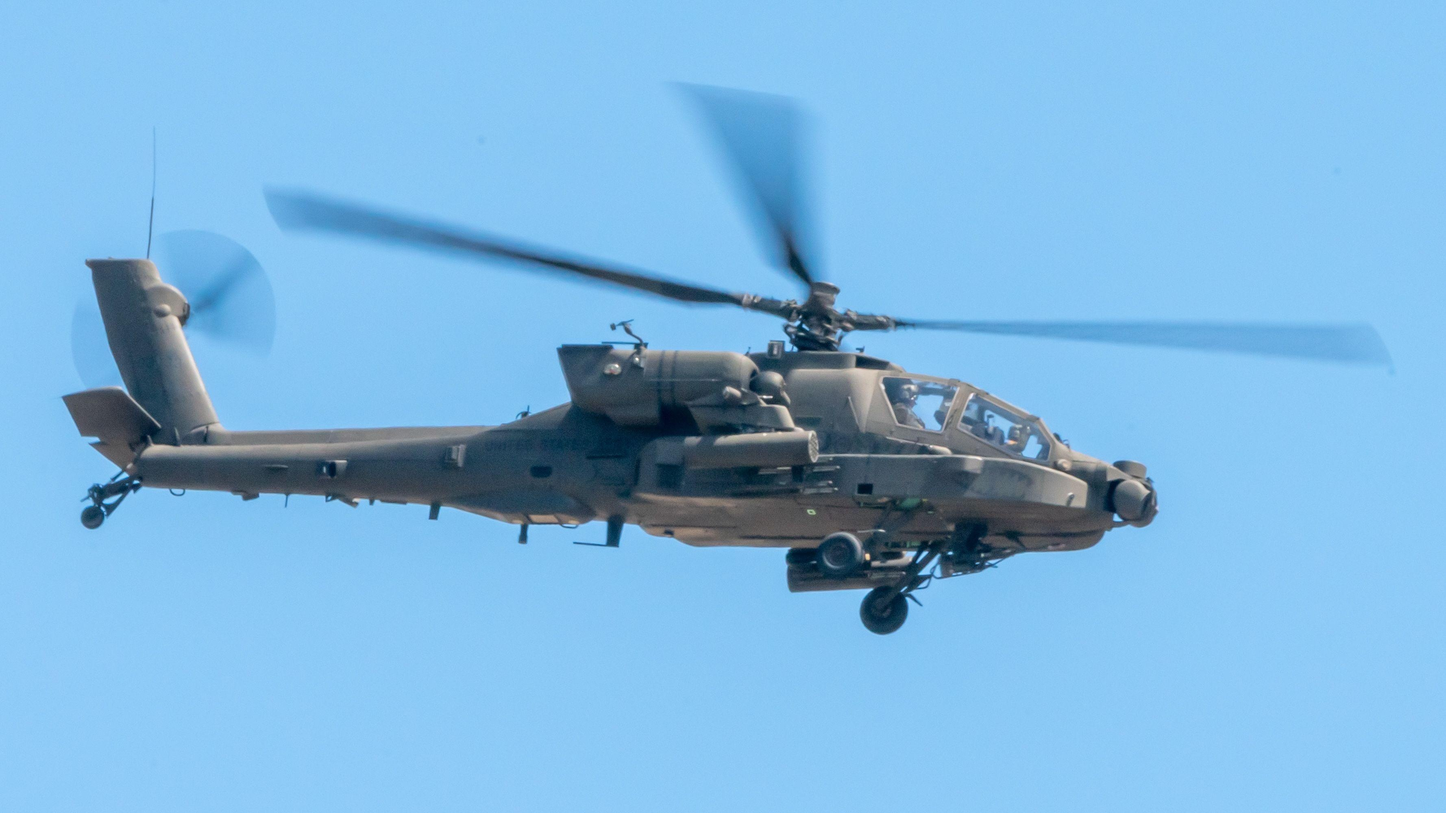aircraft: (44, 146, 1161, 636), (71, 321, 1159, 636)
